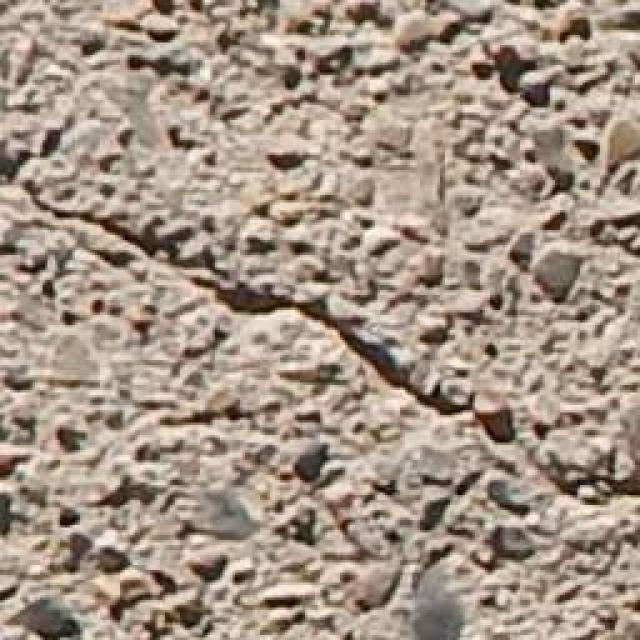concrete-crack: (4, 110, 640, 510)
